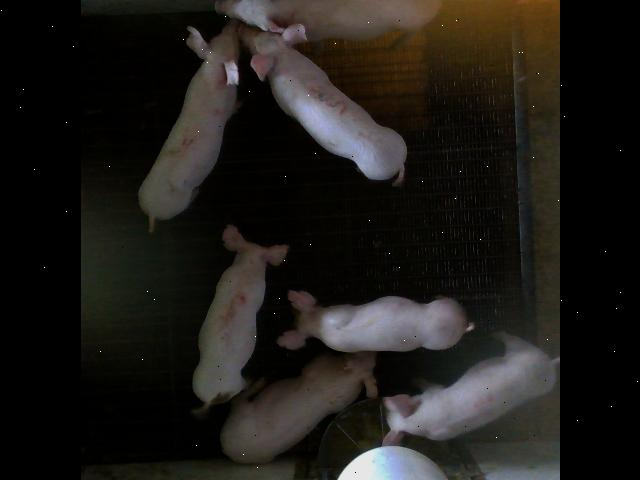pig-3: (238, 25, 406, 185)
pig-4: (381, 332, 558, 445)
pig-5: (190, 226, 287, 416)
